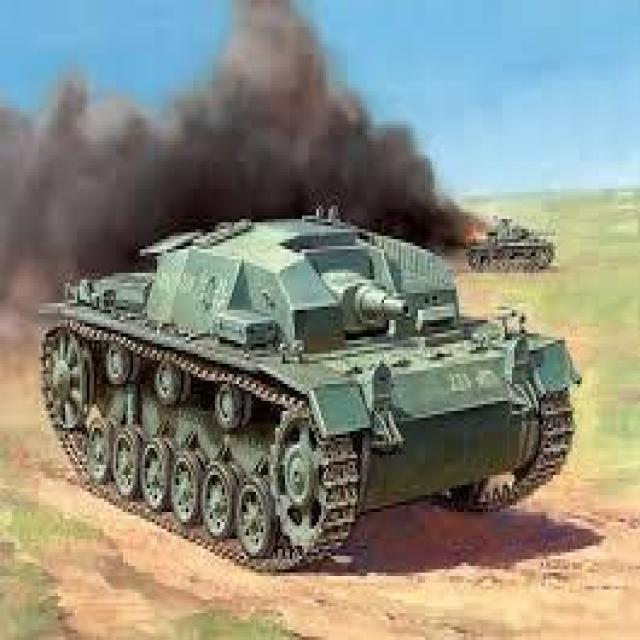Tanks: (36, 205, 582, 566)
